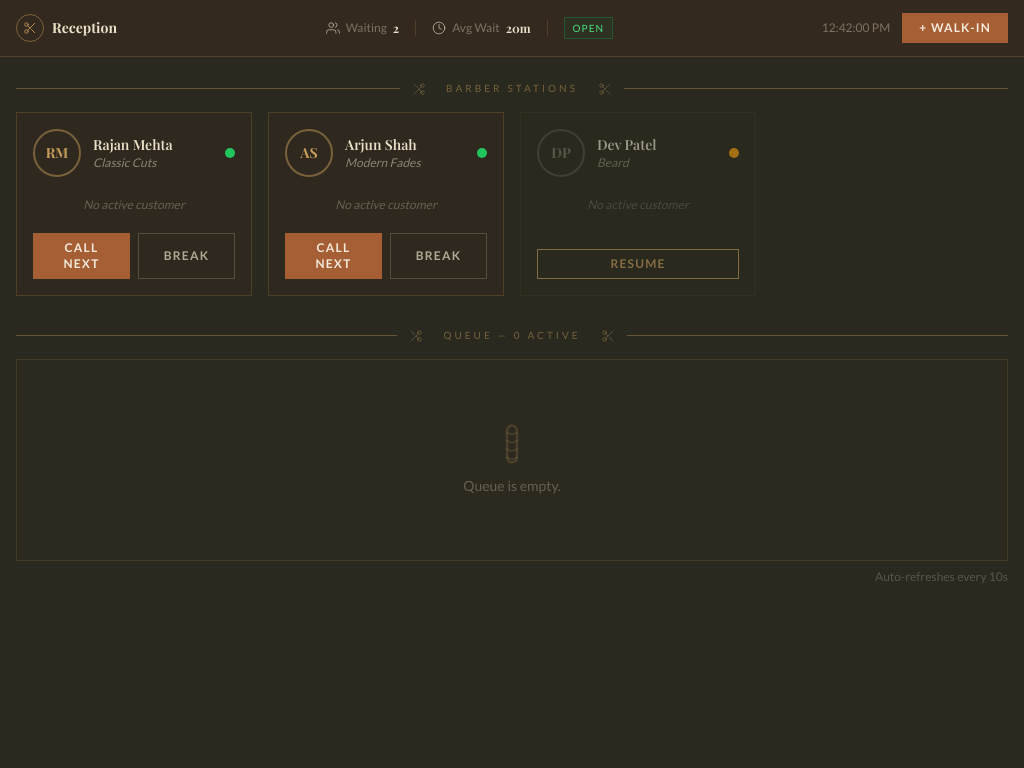
it: ReceptionPage — barber break toggle › opens break confirmation modal
Step 1. Click the button "Break" below "Classic Cuts" → (186, 256), box left=138, top=233, right=235, bottom=279
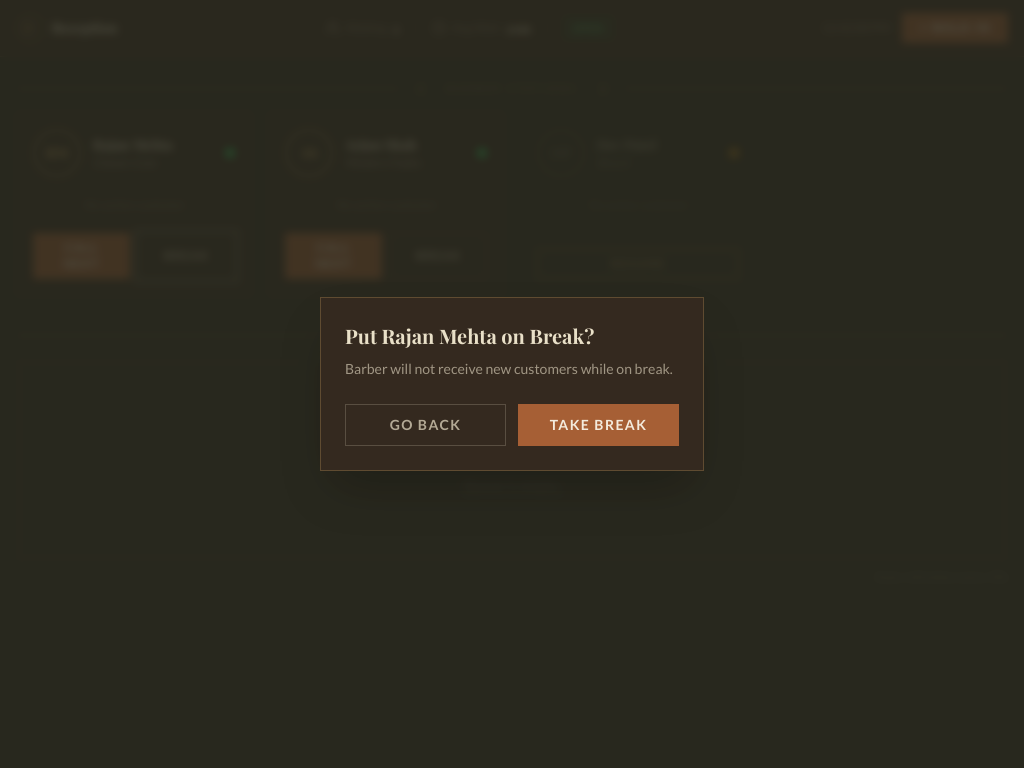
expect the dialog is shown: met
